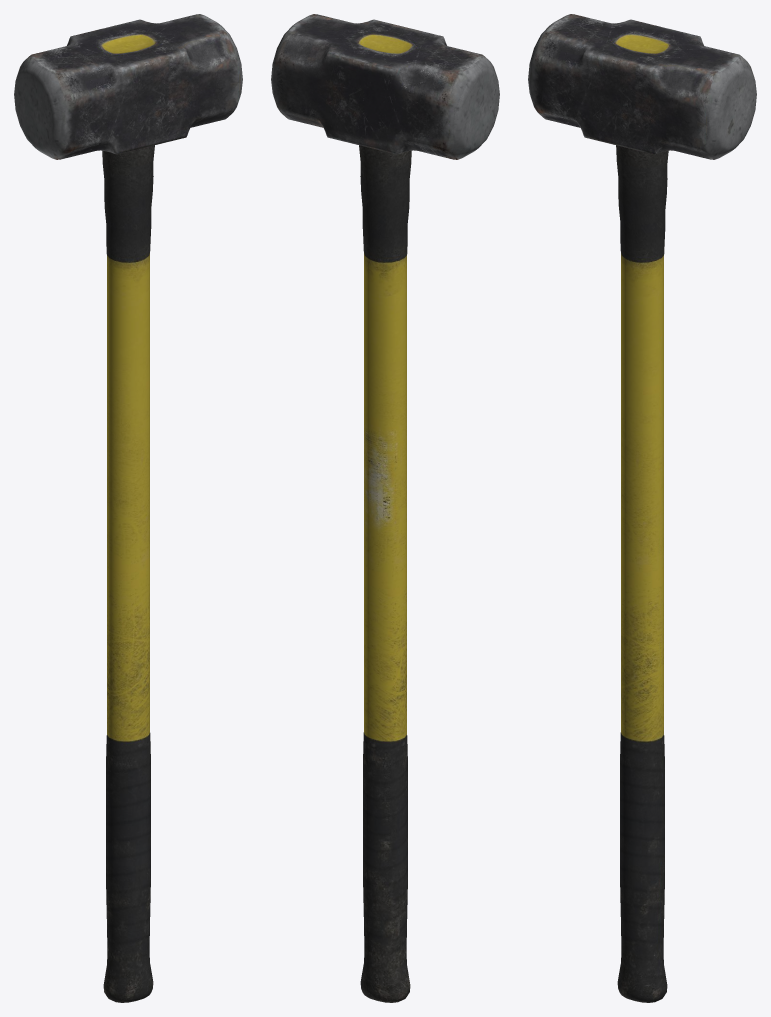
Rendered from ph_sledgehammer.gltf.
3 renders of one model, left to right at view 1: azimuth 30°, elevation 25°; view 2: azimuth 150°, elevation 25°; view 3: azimuth 330°, elevation 25°, orthographic.
Parts seen in each view (by area): view 1: Body; view 2: Body; view 3: Body.
Part boxes in pixels (x1,y1,x2,y2): Body: (14,14,242,1002); Body: (271,14,499,1002); Body: (528,14,756,1002).
Bounding box in the file's own units: 0.2085 × 1.01 × 0.0905.
Materials: 1 (1 with a texture image).
